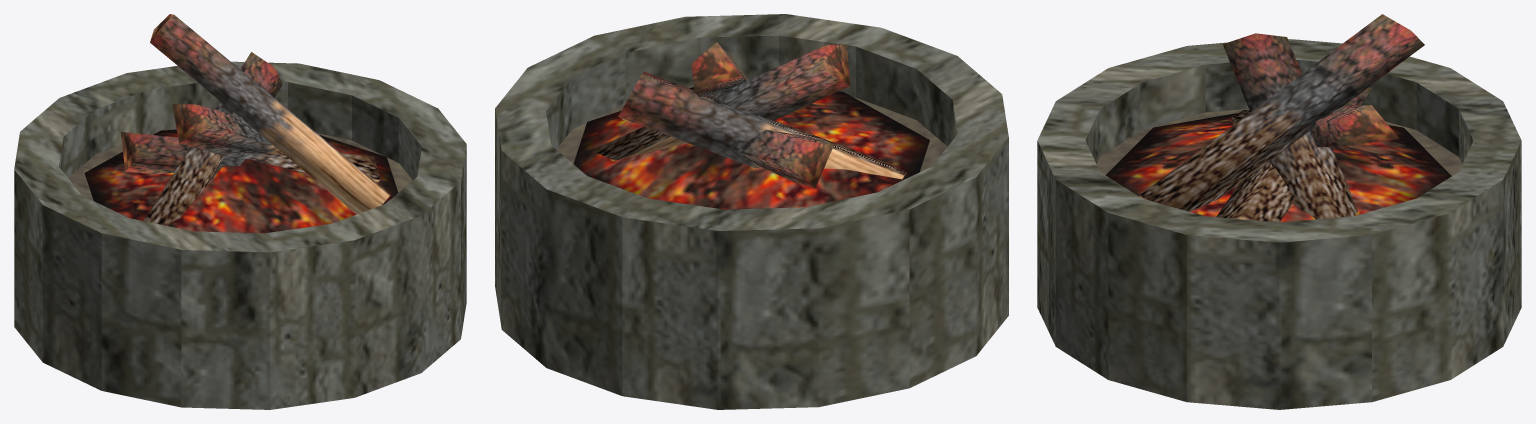
Rendered from firepit.fbx.
3 views of the same model, side by side, from view 1: azimuth 30°, elevation 25°; view 2: azimuth 150°, elevation 25°; view 3: azimuth 270°, elevation 25° (orthographic). The views are drawn at different scales.
Parts seen in each view (by area): view 1: firepit_fire; view 2: firepit_fire; view 3: firepit_fire.
Boxes of the visible parts, x1,y1,x2,y2 form: firepit_fire: (14,14,466,409); firepit_fire: (495,14,1008,409); firepit_fire: (1037,14,1521,409).
Bounding box in the file's own units: 272 × 176 × 272.
Materials: 3 (3 with a texture image).
